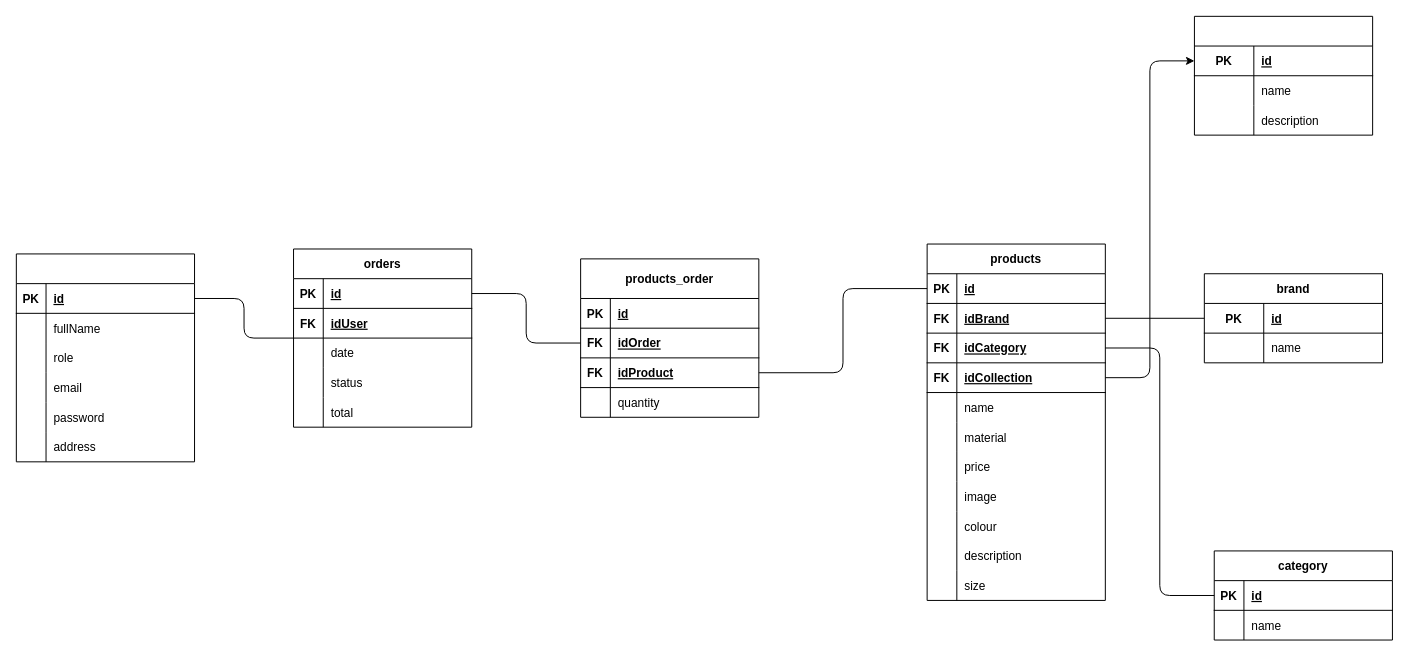
The diagram is 1409 pixels wide and 656 high, and some of its shapes have lost their labels. Here are the shapes that lost their labels. From the top down, the box of each, then its label:
(1193, 15, 1373, 135): collections
(15, 253, 195, 462): users
